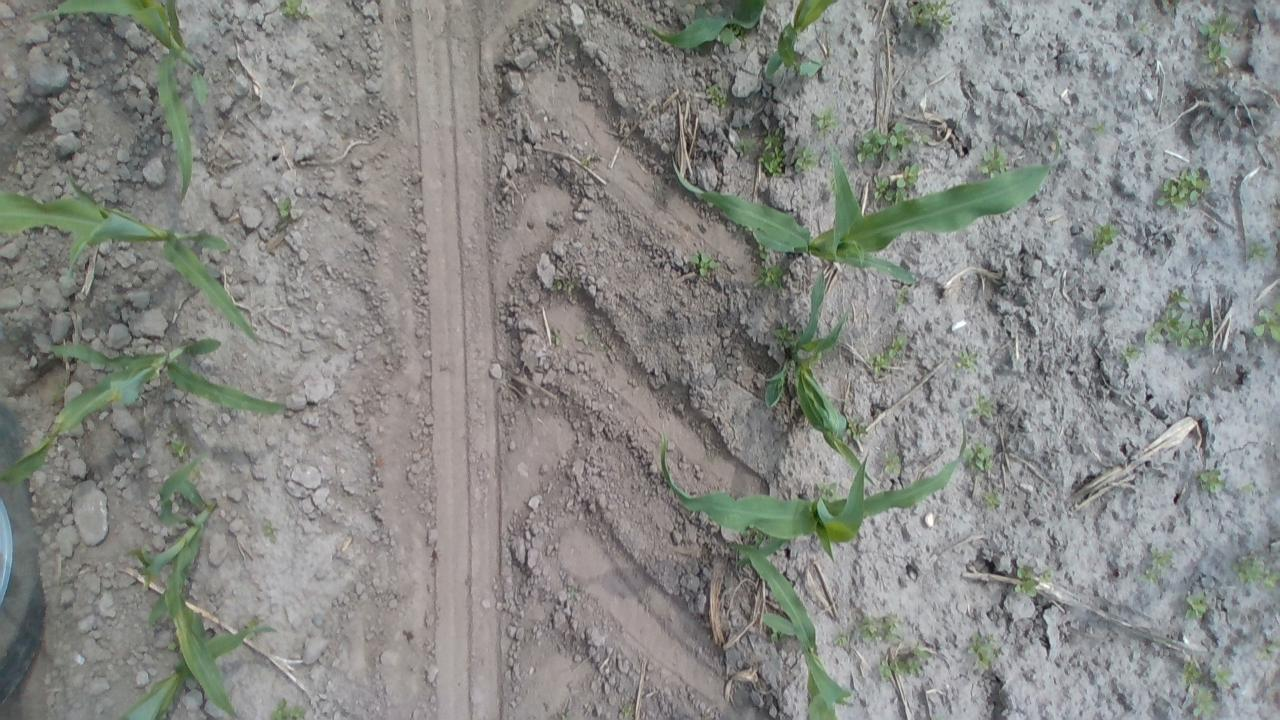Maize: (673, 133, 1064, 295), (0, 175, 275, 340), (3, 328, 292, 482), (657, 422, 970, 560), (32, 0, 210, 200), (124, 518, 258, 720), (764, 266, 872, 498), (133, 453, 225, 720), (740, 538, 857, 718), (636, 0, 846, 83), (118, 614, 270, 719), (639, 0, 808, 56), (760, 0, 838, 81)
Weeds: (1145, 288, 1215, 352), (1154, 166, 1214, 212), (1197, 12, 1238, 65), (868, 166, 921, 204), (876, 644, 929, 681), (905, 0, 954, 36), (866, 334, 910, 374), (1184, 670, 1218, 718), (850, 612, 901, 643), (758, 130, 788, 178), (1013, 564, 1054, 596), (1232, 552, 1268, 588), (1142, 546, 1174, 584), (854, 128, 888, 162), (967, 633, 996, 672), (754, 257, 786, 292), (962, 440, 996, 472), (977, 146, 1010, 178), (884, 121, 913, 156), (1252, 306, 1278, 344), (686, 250, 720, 276), (268, 699, 310, 720), (812, 107, 842, 136), (1092, 221, 1118, 254), (950, 346, 980, 374), (1195, 467, 1224, 495), (792, 144, 819, 174), (1182, 591, 1208, 622), (278, 0, 314, 21), (971, 391, 996, 420), (720, 23, 749, 47), (276, 194, 298, 223), (702, 82, 728, 106), (1246, 238, 1271, 262), (238, 616, 263, 640), (981, 486, 1007, 509), (770, 322, 796, 345), (548, 276, 577, 296), (881, 450, 901, 479), (168, 436, 192, 458), (892, 284, 912, 310), (846, 419, 868, 442), (1214, 664, 1234, 688), (1120, 344, 1142, 365), (834, 690, 854, 712), (1256, 638, 1276, 660), (816, 481, 840, 498), (832, 628, 851, 648), (736, 134, 752, 156), (1090, 120, 1108, 138), (915, 130, 931, 148), (263, 521, 279, 538), (1238, 482, 1255, 498), (1138, 20, 1154, 36), (564, 582, 580, 598), (752, 243, 768, 258), (580, 153, 596, 167), (619, 704, 633, 718)
